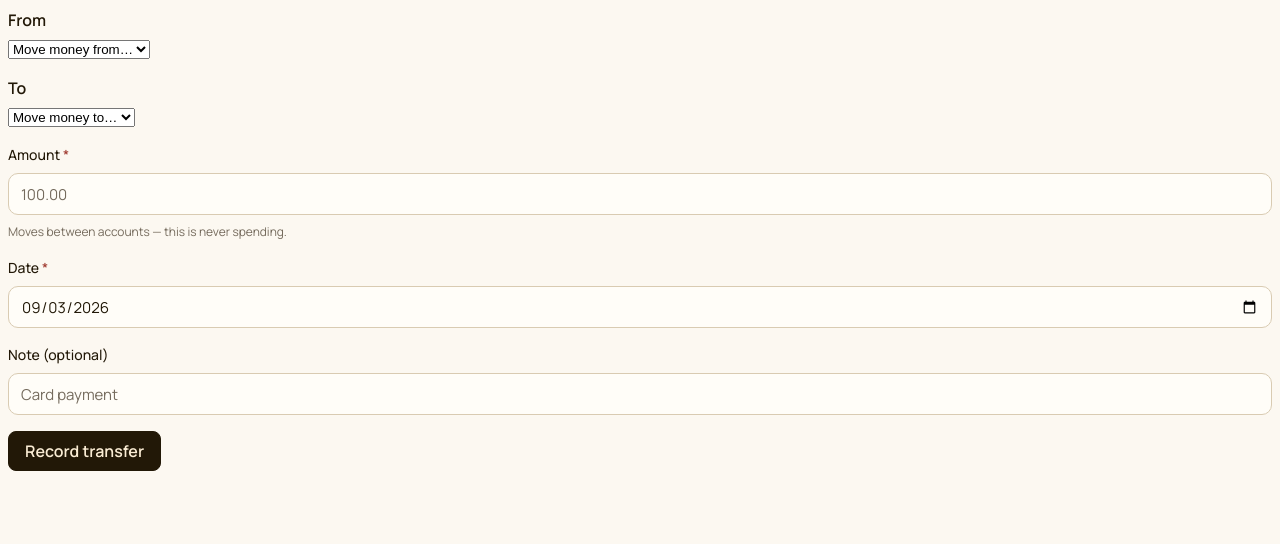
it: TransferForm › surfaces a rejection (same-account move) as an alert
Select "Everyday" in the dropdown labelled "From". click: (79, 50)
box: [8, 40, 150, 59]
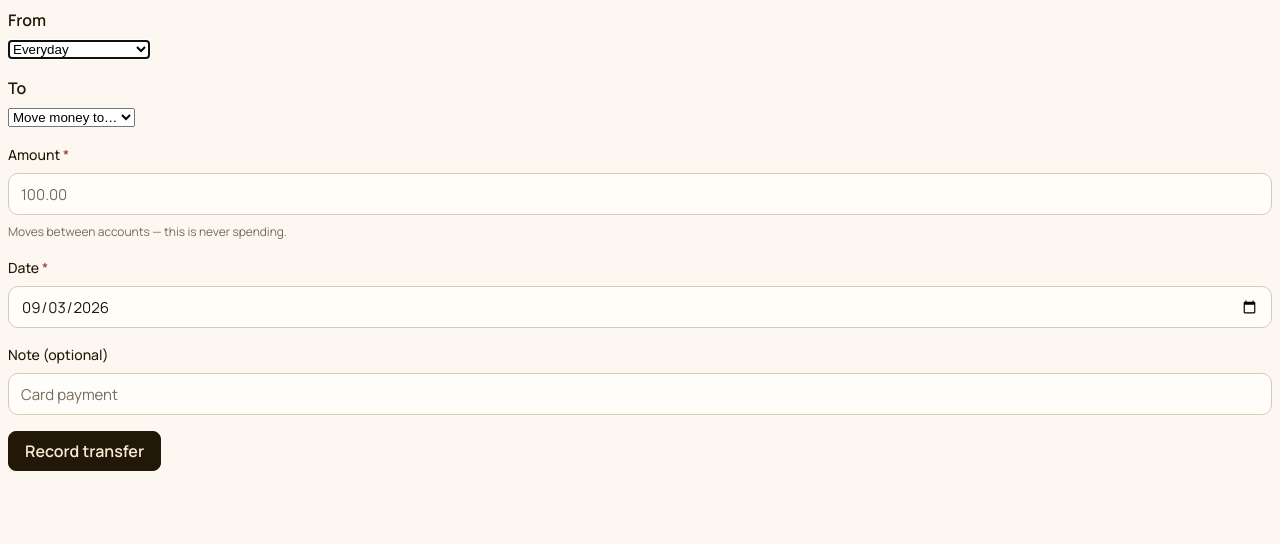
Select "Everyday" in the dropdown labelled "To". click: (72, 118)
box: [8, 108, 135, 127]
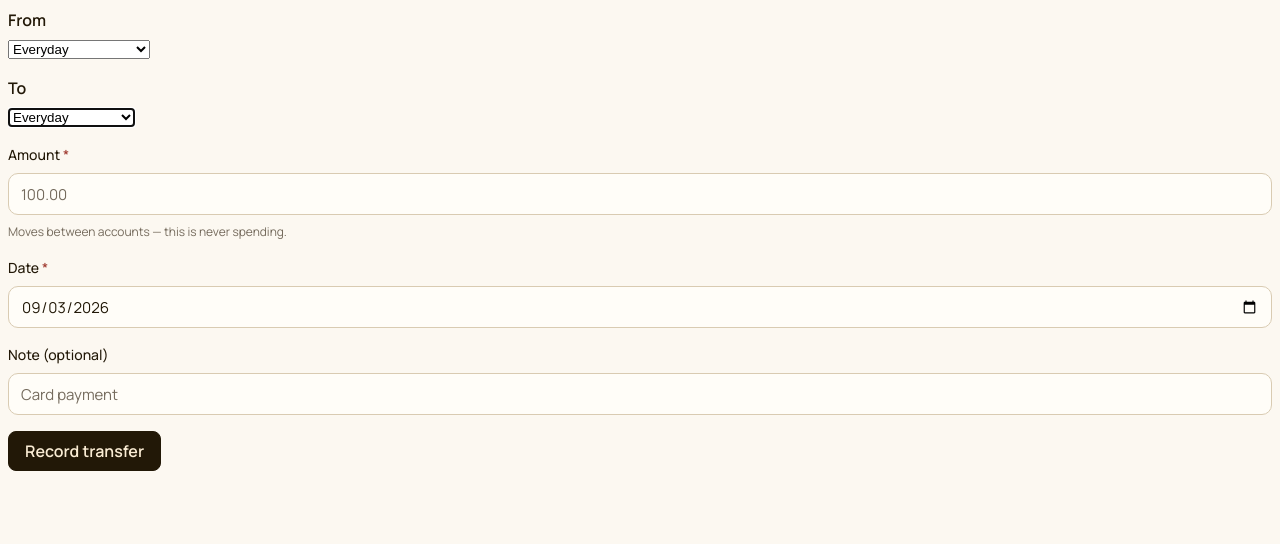
Type "40.00" into the field labelled "Amount *". click: (640, 194)
box: [8, 173, 1272, 215]
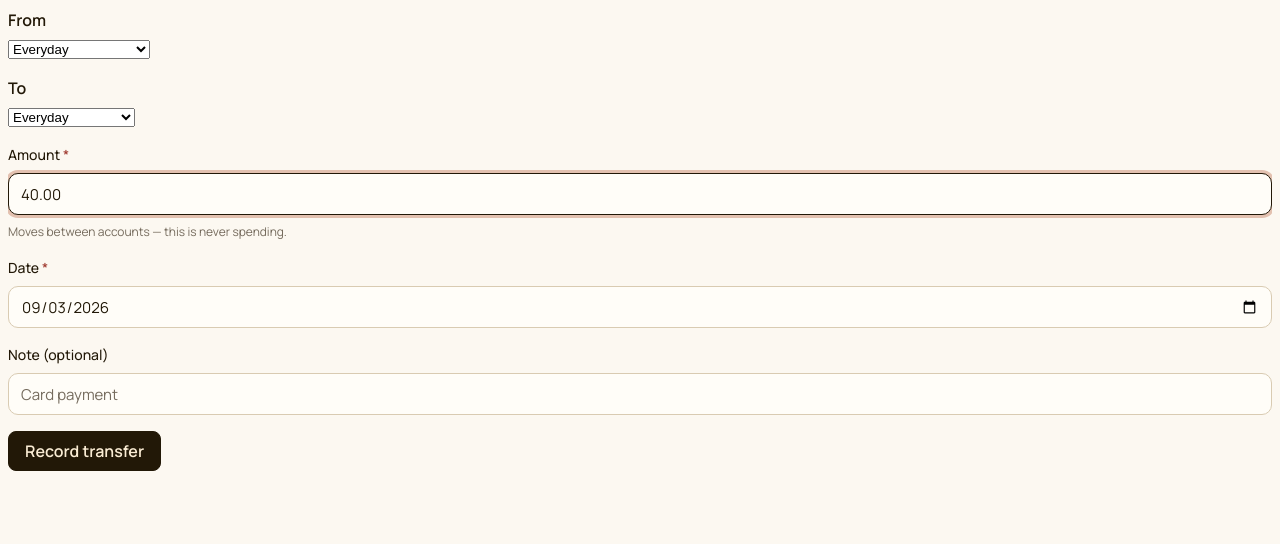
Click the button "Record transfer". click: (85, 451)
box: [8, 431, 161, 471]
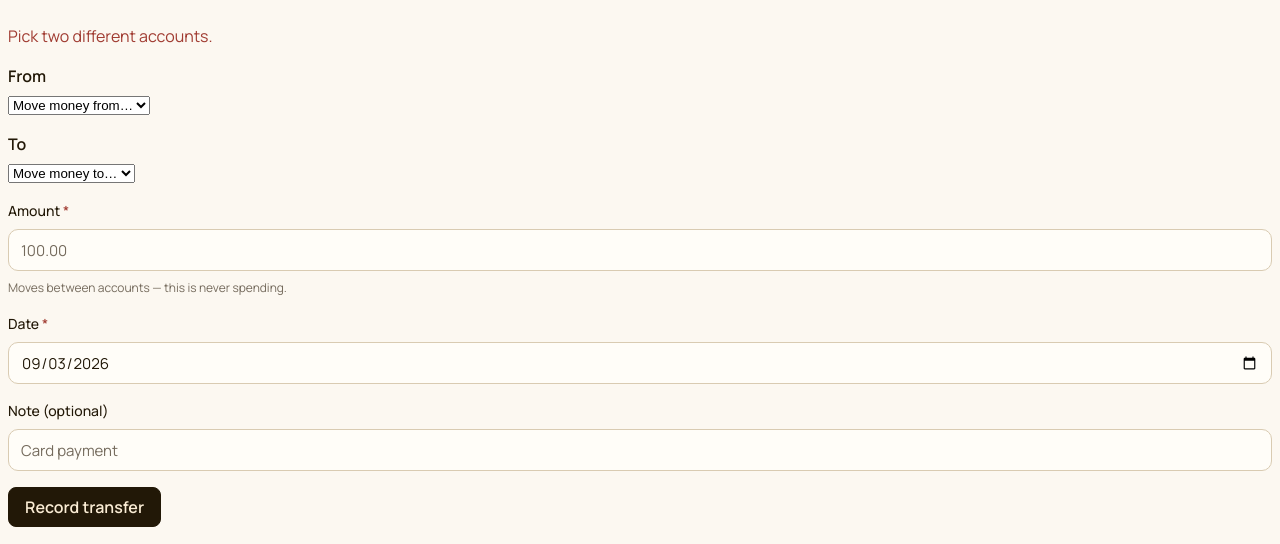
Check: the message reads "Pick two different accounts.", box [8, 25, 213, 47]
